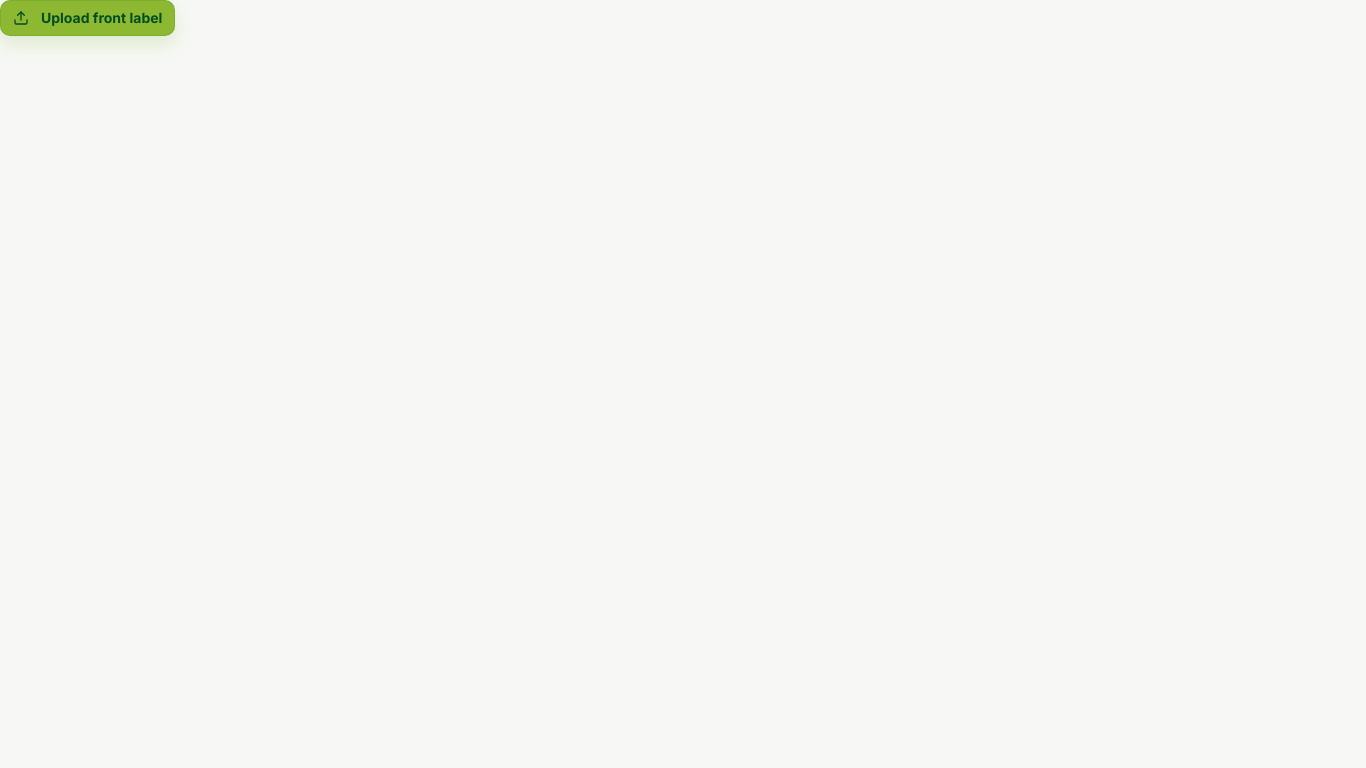
Test: manual front label upload › drawer button opens the chooser with the dropzone
This screenshot has width=1366, height=768.
Click the button "Upload front label". click: coordinates (88, 18)
box: [0, 0, 175, 36]
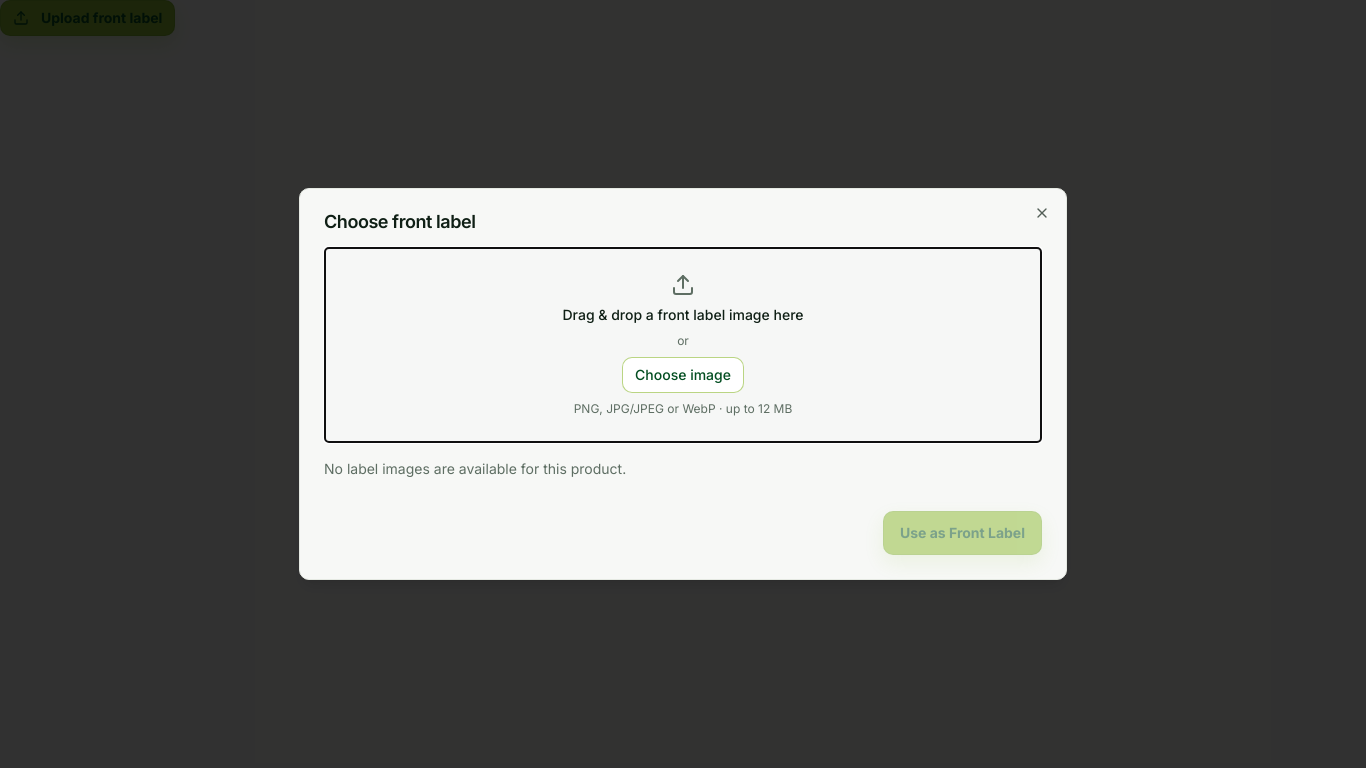
Expected: the button with test id "v3-front-label-dropzone" is shown, [324, 247, 1042, 443]
